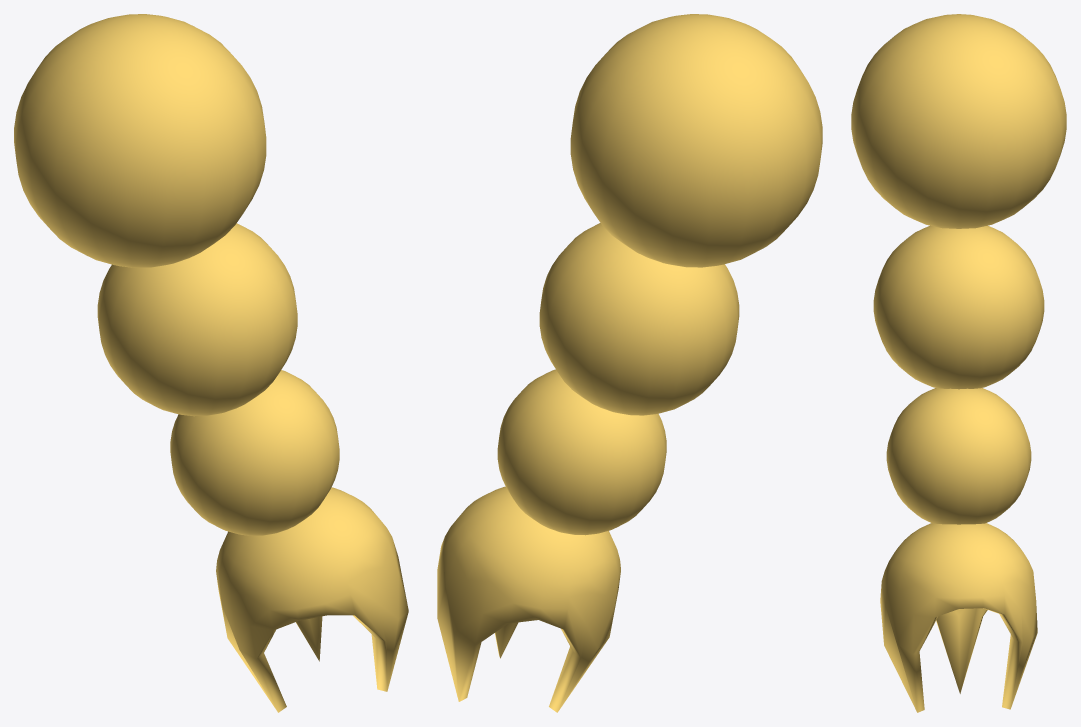
The model's file is Bras 01.fbx.
The picture shows the model from 3 angles, left to right: view 1: azimuth 30°, elevation 25°; view 2: azimuth 150°, elevation 25°; view 3: azimuth 270°, elevation 25°; orthographic projection. The views are drawn at different scales.
Visible parts, largest first — view 1: Sphere.002, Sphere.003, Sphere.005, Sphere.004; view 2: Sphere.002, Sphere.003, Sphere.005, Sphere.004; view 3: Sphere.002, Sphere.003, Sphere.005, Sphere.004.
Boxes of the visible parts, bbox=[...] form: Sphere.002: bbox=[14, 14, 266, 267]; Sphere.003: bbox=[97, 223, 297, 416]; Sphere.005: bbox=[216, 487, 408, 712]; Sphere.004: bbox=[170, 370, 339, 535]; Sphere.002: bbox=[570, 14, 822, 267]; Sphere.003: bbox=[539, 223, 739, 415]; Sphere.005: bbox=[437, 486, 620, 712]; Sphere.004: bbox=[497, 369, 666, 535]; Sphere.002: bbox=[851, 14, 1066, 228]; Sphere.003: bbox=[873, 225, 1044, 389]; Sphere.005: bbox=[880, 523, 1037, 712]; Sphere.004: bbox=[886, 388, 1031, 524].
Bounding box in the file's own units: 84.85 × 165 × 52.46.
